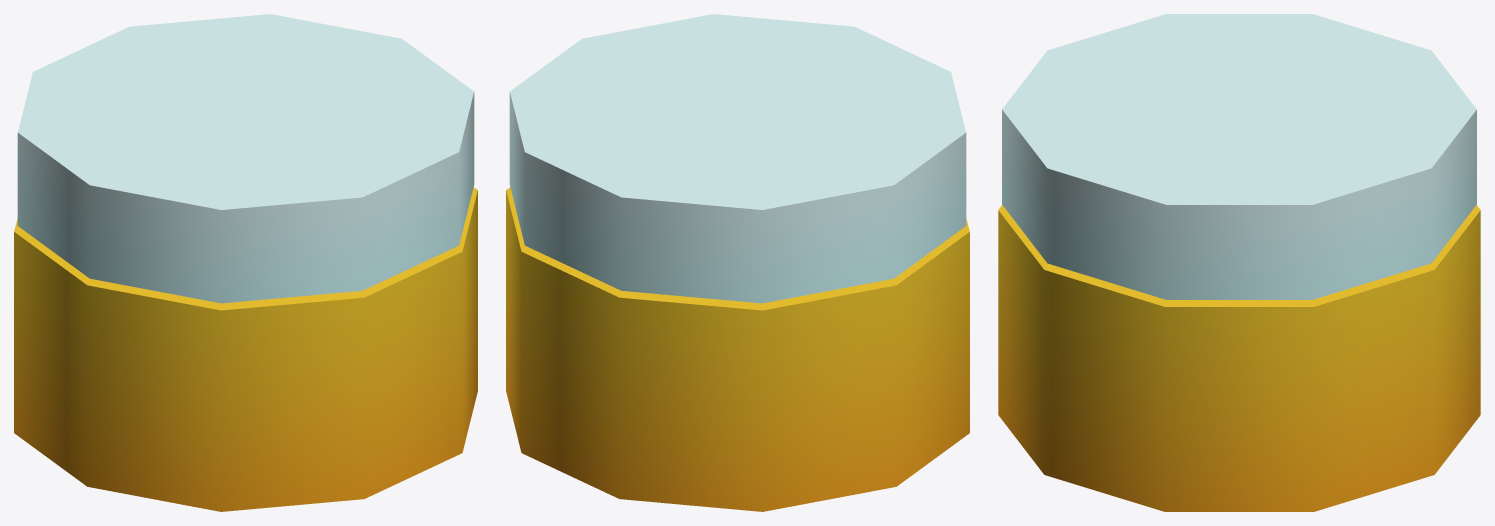
File: cream_jar_orange.fbx
3 renders of one model, left to right at view 1: azimuth 30°, elevation 25°; view 2: azimuth 150°, elevation 25°; view 3: azimuth 270°, elevation 25°, orthographic.
Visible parts, largest first — view 1: cream_jar_orange; view 2: cream_jar_orange; view 3: cream_jar_orange.
Part boxes in pixels (x1,y1,x2,y2): cream_jar_orange: (14, 14, 477, 511); cream_jar_orange: (506, 14, 969, 511); cream_jar_orange: (998, 14, 1480, 511).
Bounding box in the file's own units: 127 × 93.48 × 134.
